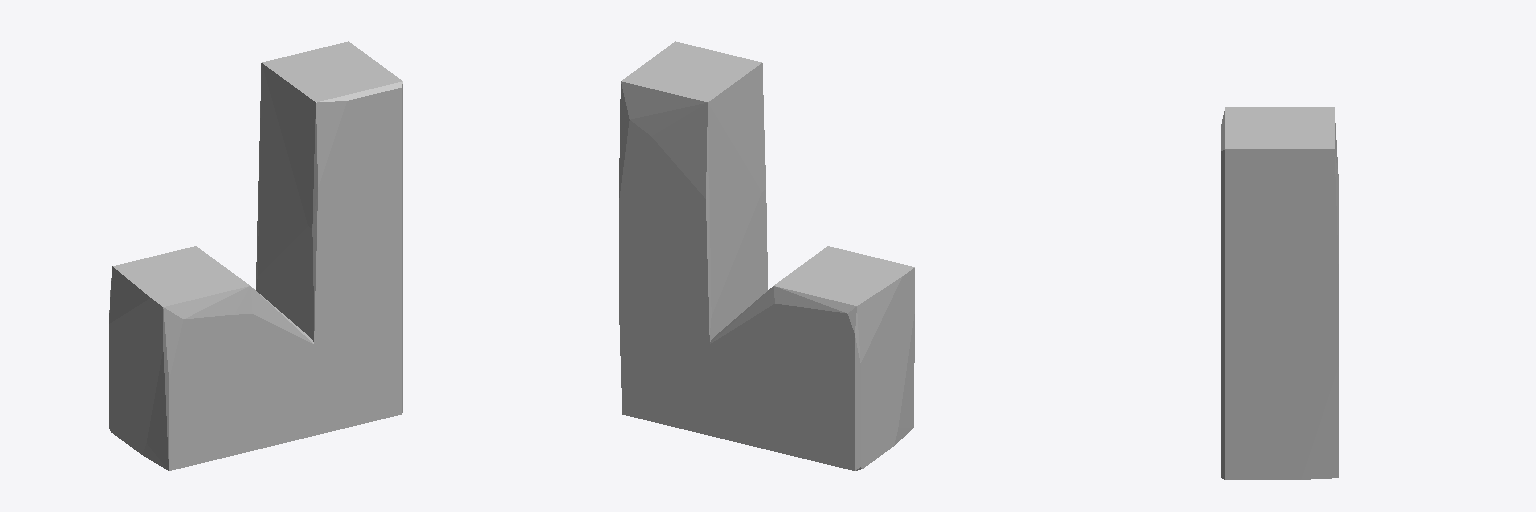
Rendered from J_Block_decimated.obj.
The picture shows the model from 3 angles: view 1: azimuth 30°, elevation 25°; view 2: azimuth 150°, elevation 25°; view 3: azimuth 270°, elevation 25°; orthographic projection.
Parts seen in each view (by area): view 1: convex_1, convex_0; view 2: convex_1, convex_0; view 3: convex_1.
Part boxes in pixels (left/top/right/bottom): convex_1: left=256, top=41, right=402, bottom=435; convex_0: left=109, top=246, right=313, bottom=470; convex_1: left=619, top=41, right=767, bottom=435; convex_0: left=710, top=246, right=914, bottom=470; convex_1: left=1221, top=107, right=1338, bottom=479.
Bounding box in the file's own units: 38.47 × 50.72 × 16.32.